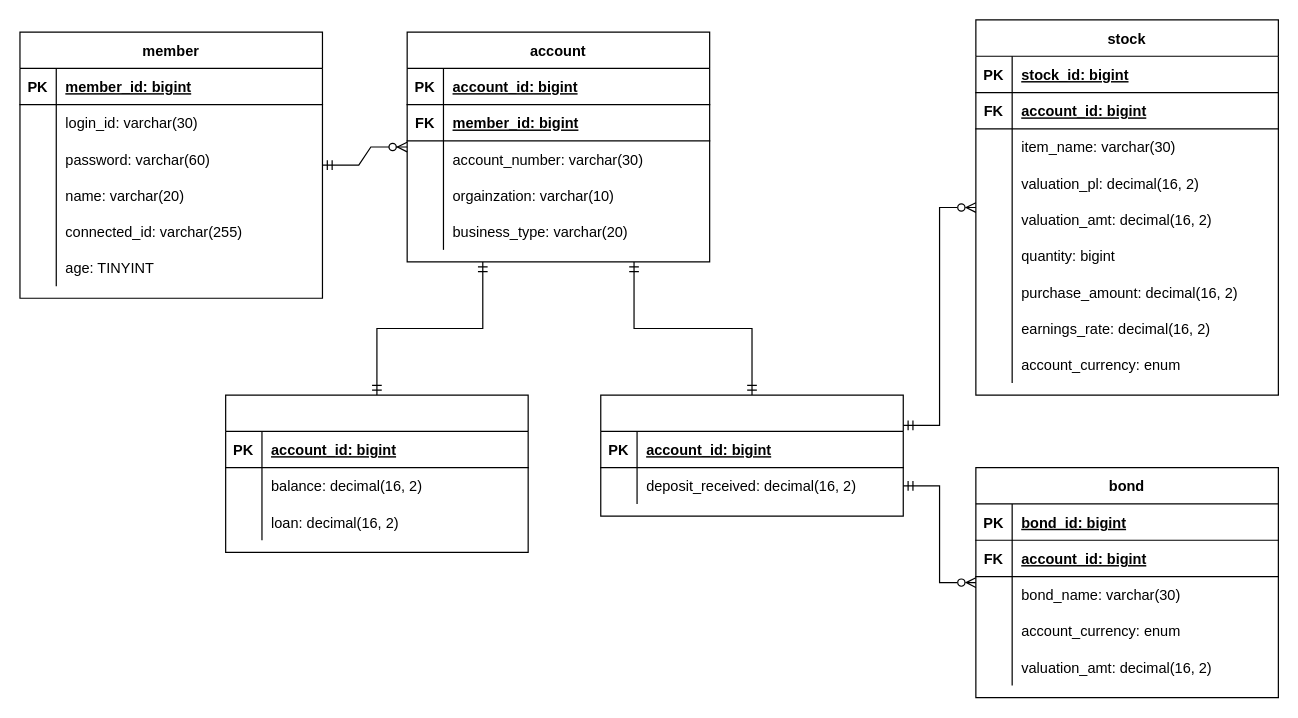
Some shapes in this 1298 by 718 pixel diagram are drawn without their labels. Each missing label, with the box of its shape:
bank_account: (224, 394, 528, 552)
stock_account: (600, 394, 903, 516)
